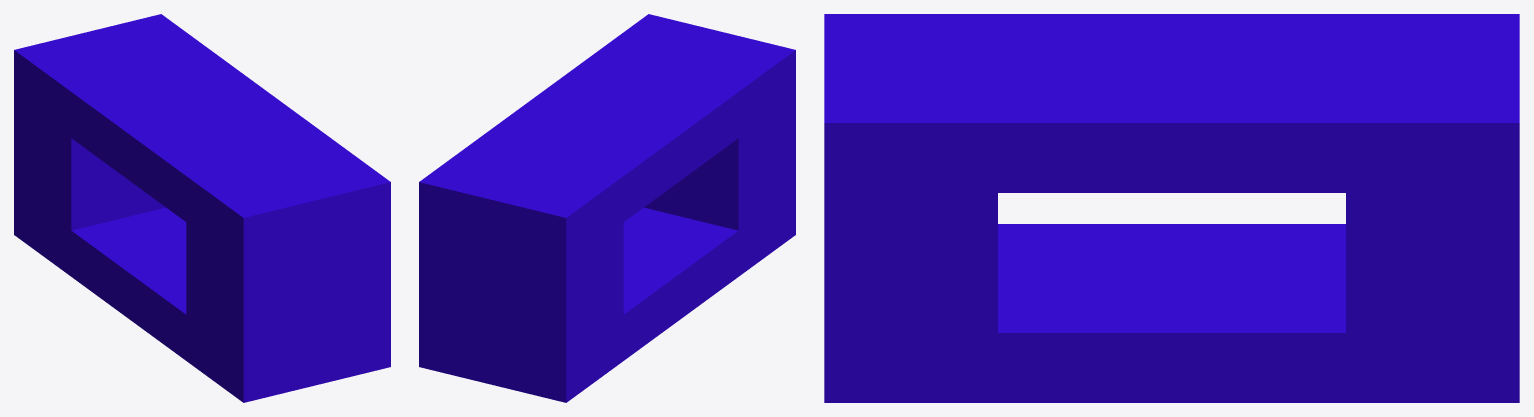
File: window_narrow.fbx
3 renders of one model, left to right at view 1: azimuth 30°, elevation 25°; view 2: azimuth 150°, elevation 25°; view 3: azimuth 270°, elevation 25°, orthographic. The views are drawn at different scales.
Visible parts, largest first — view 1: Plane; view 2: Plane; view 3: Plane.
Part boxes in pixels (x1,y1,x2,y2): Plane: (14, 14, 390, 402); Plane: (419, 14, 795, 402); Plane: (824, 14, 1519, 402).
Bounding box in the file's own units: 66.67 × 80 × 180.
